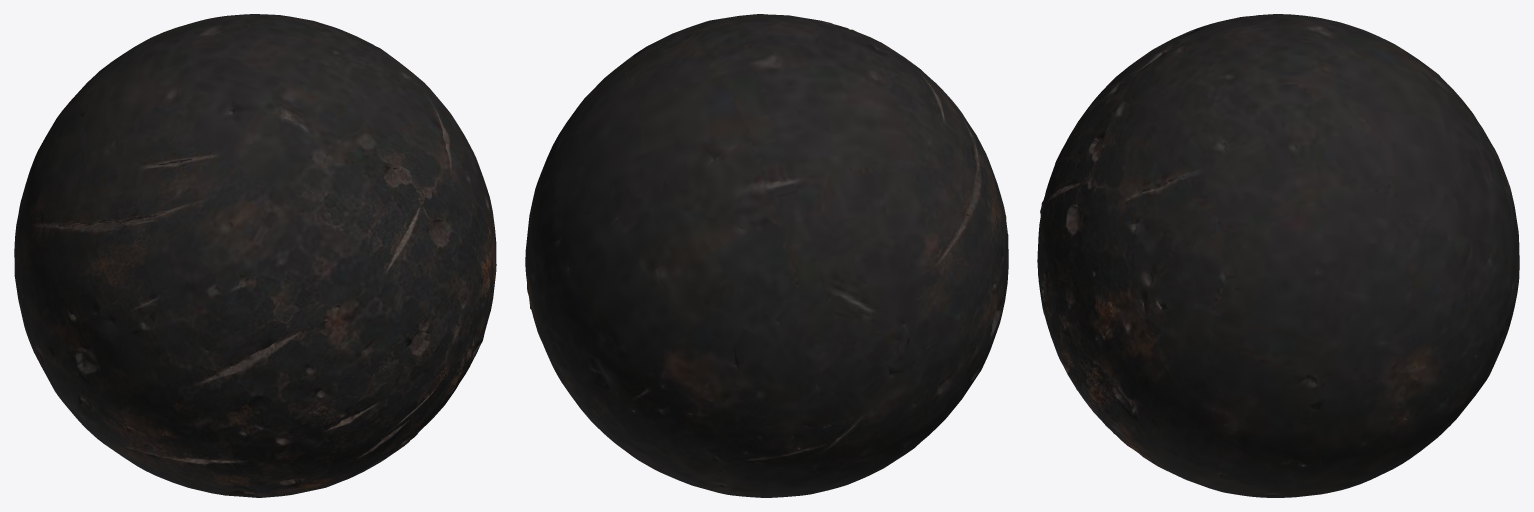
The model's file is cannonball.glb.
3 views of the same model, side by side, from view 1: azimuth 30°, elevation 25°; view 2: azimuth 150°, elevation 25°; view 3: azimuth 270°, elevation 25° (orthographic).
Size of the model in its own units: 1.9 by 1.9 by 1.89.
1 material, 1 textured.
